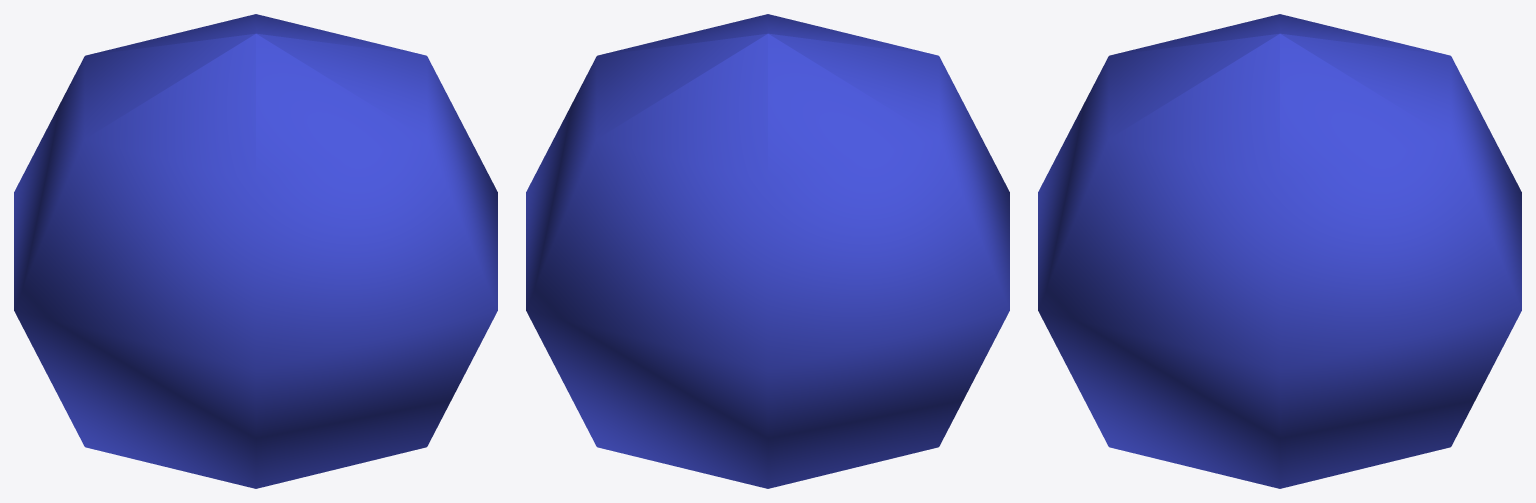
The model's file is fruit-blueberry-gold-far.glb.
3 renders of one model, left to right at view 1: azimuth 30°, elevation 25°; view 2: azimuth 150°, elevation 25°; view 3: azimuth 270°, elevation 25°, orthographic.
Parts seen in each view (by area): view 1: fruit-blueberry-far; view 2: fruit-blueberry-far; view 3: fruit-blueberry-far.
Boxes of the visible parts, x1,y1,x2,y2 form: fruit-blueberry-far: [14, 14, 497, 488]; fruit-blueberry-far: [526, 14, 1009, 488]; fruit-blueberry-far: [1038, 14, 1521, 488].
Size of the model in its own units: 0.24 by 0.2064 by 0.2078.
